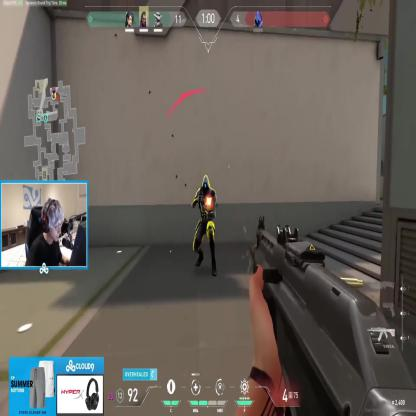enemy: (190, 172, 217, 277)
enemy_head: (202, 176, 210, 192)
